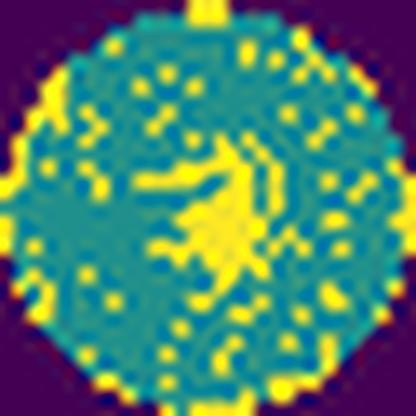Center: (133, 131, 286, 314)
